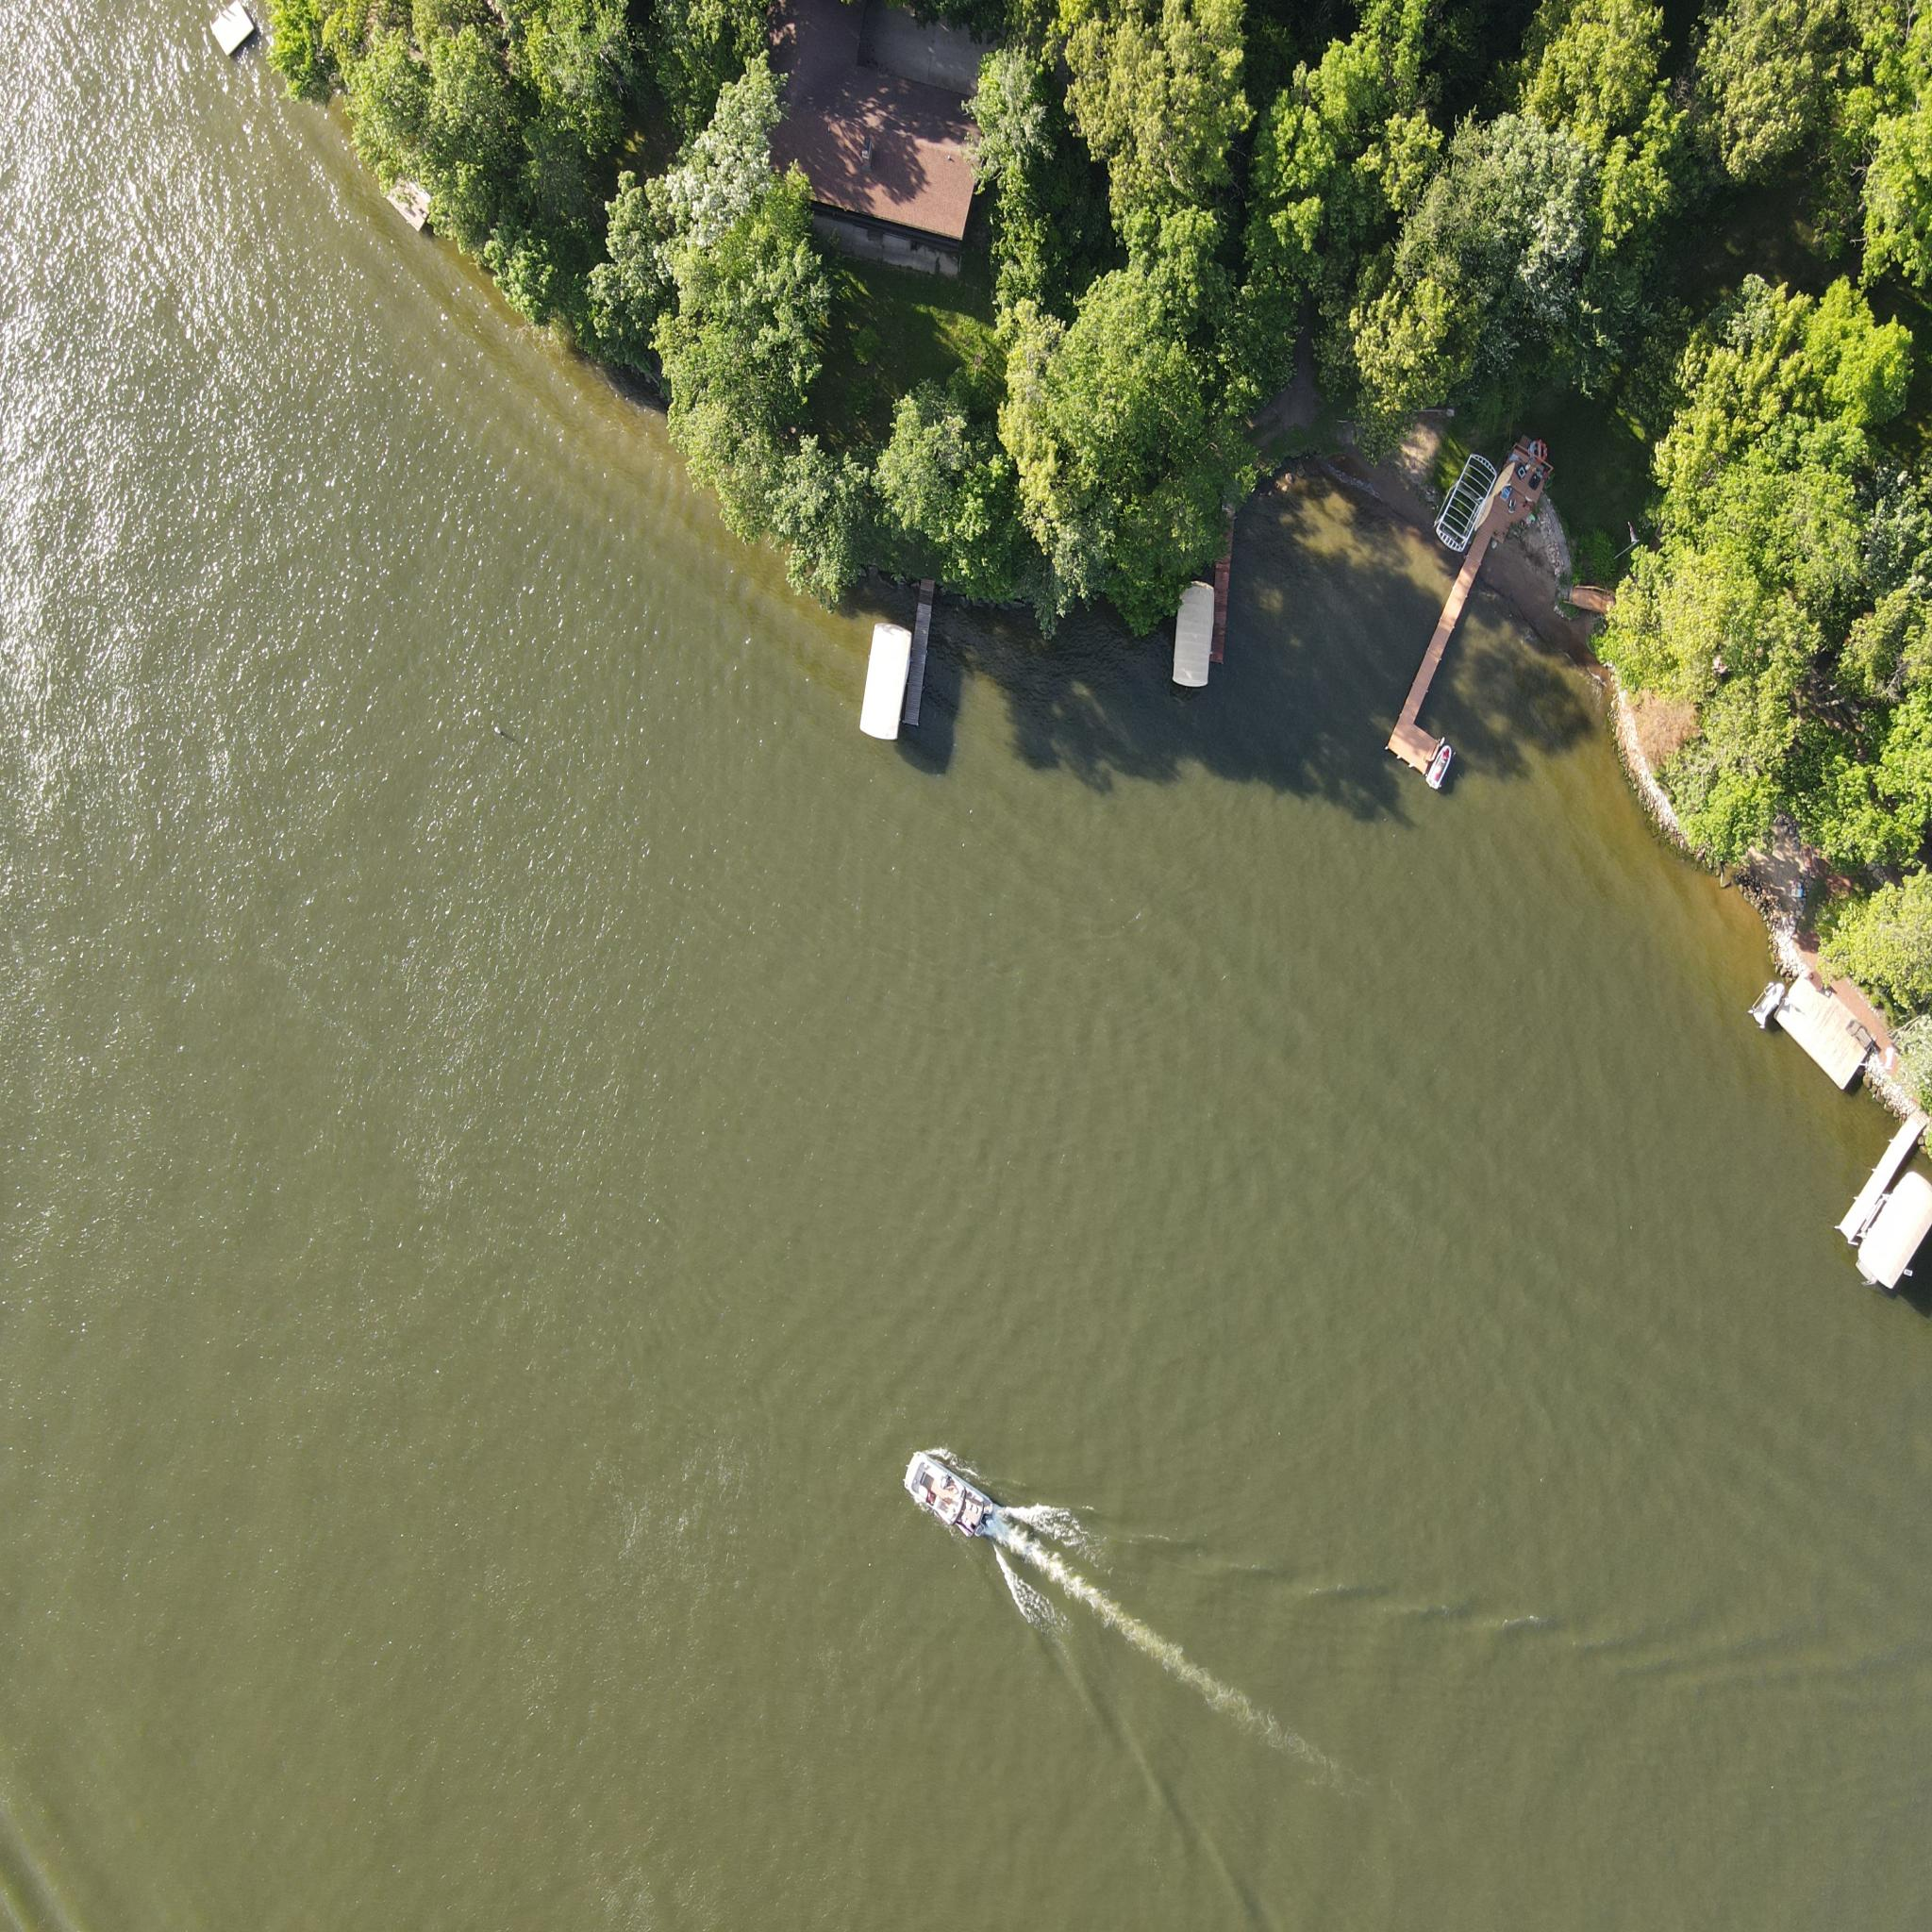boat: (902, 1433, 998, 1562)
dock: (1394, 441, 1548, 793), (1778, 964, 1872, 1095), (1840, 1104, 1930, 1233), (899, 566, 936, 740), (1210, 478, 1242, 676), (387, 165, 435, 235), (211, 0, 257, 55)
jetski: (1743, 962, 1792, 1031), (1428, 745, 1454, 789)
lift: (1858, 1162, 1932, 1300), (1437, 449, 1499, 556), (858, 614, 906, 748), (1171, 577, 1221, 681)
